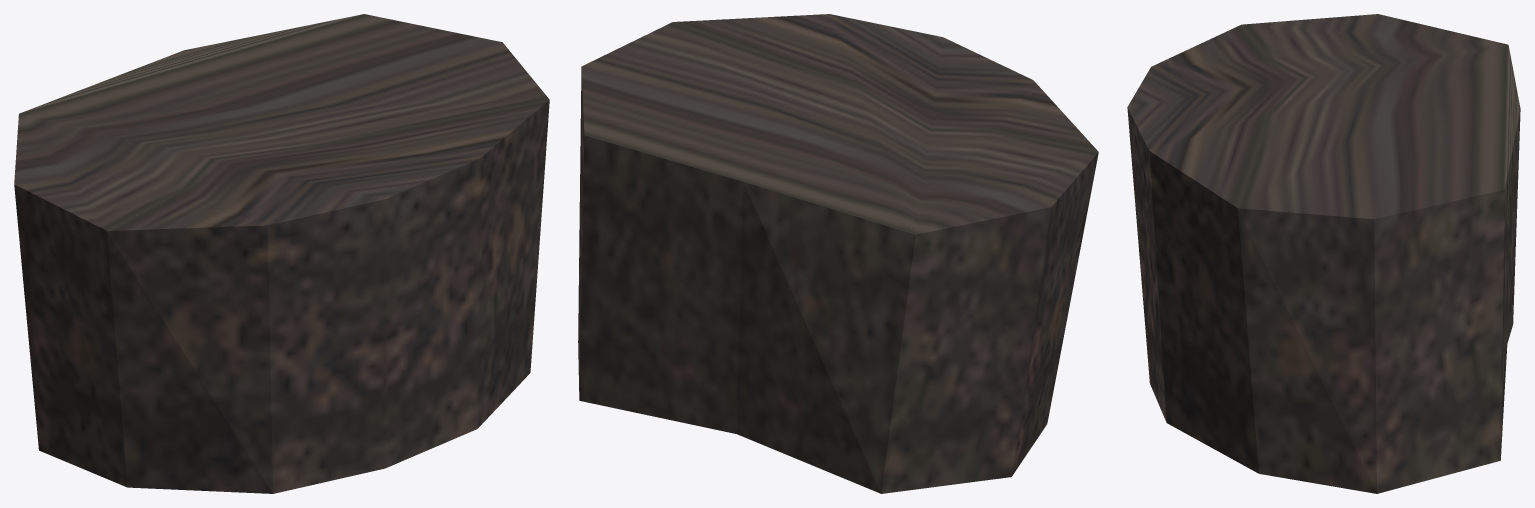
File: trompa4.obj
3 views of the same model, side by side, from view 1: azimuth 30°, elevation 25°; view 2: azimuth 150°, elevation 25°; view 3: azimuth 270°, elevation 25° (orthographic). The views are drawn at different scales.
Parts seen in each view (by area): view 1: pasted__polySurface7 pasted__polySurface6 pasted__polySurface4 p; view 2: pasted__polySurface7 pasted__polySurface6 pasted__polySurface4 p; view 3: pasted__polySurface7 pasted__polySurface6 pasted__polySurface4 p.
Part boxes in pixels (bbox=[...]): pasted__polySurface7 pasted__polySurface6 pasted__polySurface4 p: bbox=[14, 14, 549, 493]; pasted__polySurface7 pasted__polySurface6 pasted__polySurface4 p: bbox=[578, 14, 1098, 493]; pasted__polySurface7 pasted__polySurface6 pasted__polySurface4 p: bbox=[1127, 14, 1520, 493].
Bounding box in the file's own units: 1.56 × 0.9382 × 1.12.
Materials: 1 (1 with a texture image).
